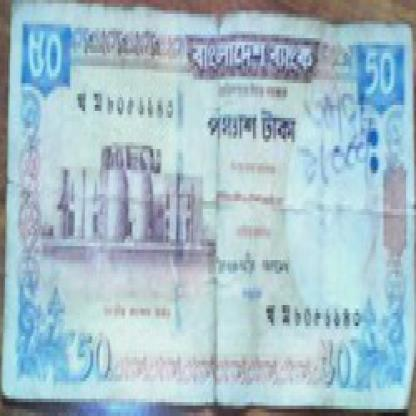Fifty taka: (20, 28, 90, 83), (306, 340, 356, 398)
